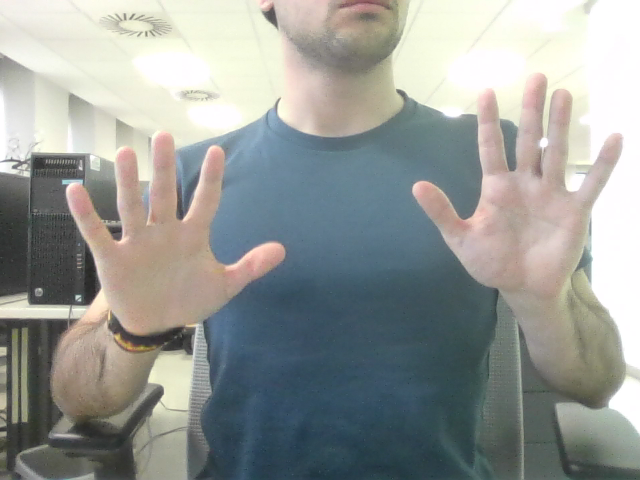Manos Arriba: (103, 95, 588, 295)
